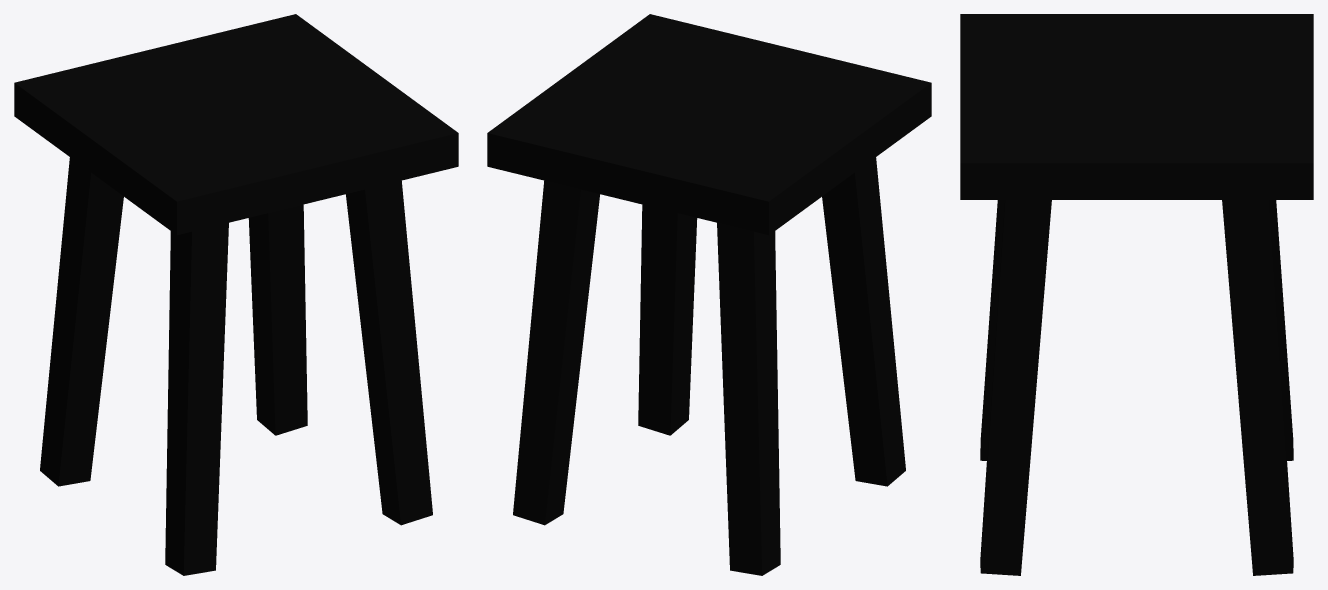
File: SM_stool_wood.fbx
The picture shows the model from 3 angles, left to right: view 1: azimuth 30°, elevation 25°; view 2: azimuth 150°, elevation 25°; view 3: azimuth 270°, elevation 25°; orthographic projection. The views are drawn at different scales.
Parts seen in each view (by area): view 1: stool_wood; view 2: stool_wood; view 3: stool_wood.
Boxes of the visible parts, x1=… form: stool_wood: x1=14, y1=14, x2=458, y2=575; stool_wood: x1=487, y1=14, x2=931, y2=575; stool_wood: x1=960, y1=14, x2=1313, y2=575.
Size of the model in its own units: 0.35 by 0.4628 by 0.35.
